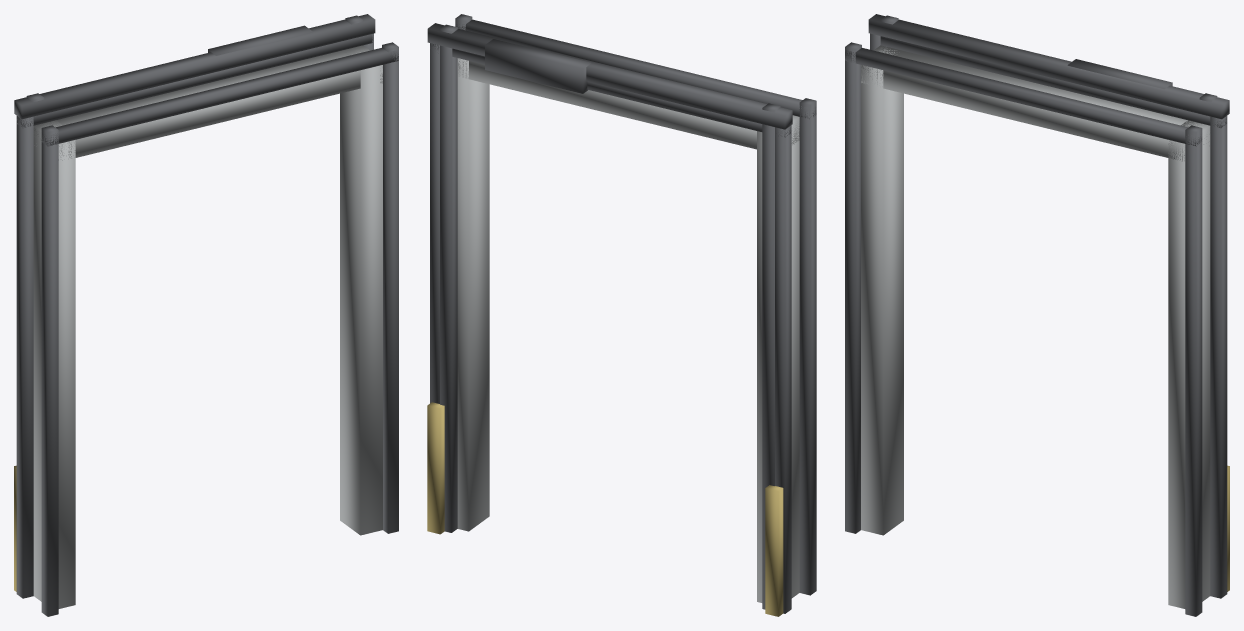
The model's file is bay_opening_service_bay_w240_h360_d30.glb.
The picture shows the model from 3 angles, left to right: view 1: azimuth 30°, elevation 25°; view 2: azimuth 150°, elevation 25°; view 3: azimuth 330°, elevation 25°; orthographic projection.
Visible parts, largest first — view 1: world; view 2: world; view 3: world.
Part boxes in pixels (<box>): world: <box>14,14,398,616</box>; world: <box>427,14,816,616</box>; world: <box>845,14,1229,616</box>.
Bounding box in the file's own units: 2.98 × 3.99 × 0.522.
